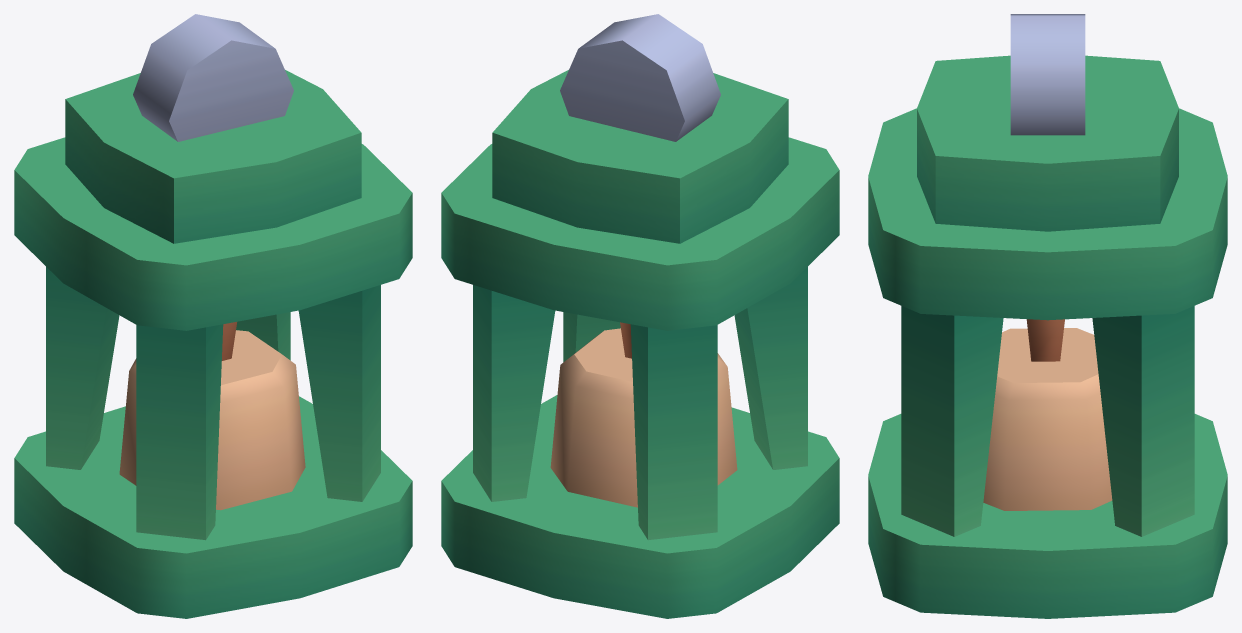
File: grave.lantern_candle.glb
The picture shows the model from 3 angles, left to right: view 1: azimuth 30°, elevation 25°; view 2: azimuth 150°, elevation 25°; view 3: azimuth 270°, elevation 25°; orthographic projection. The views are drawn at different scales.
Parts seen in each view (by area): view 1: lantern-candle; view 2: lantern-candle; view 3: lantern-candle.
Part boxes in pixels (x1,y1,x2,y2): lantern-candle: [14, 14, 412, 618]; lantern-candle: [441, 14, 839, 618]; lantern-candle: [868, 14, 1227, 618].
Size of the model in its own units: 0.2578 by 0.4164 by 0.2578.
1 material, 1 textured.
